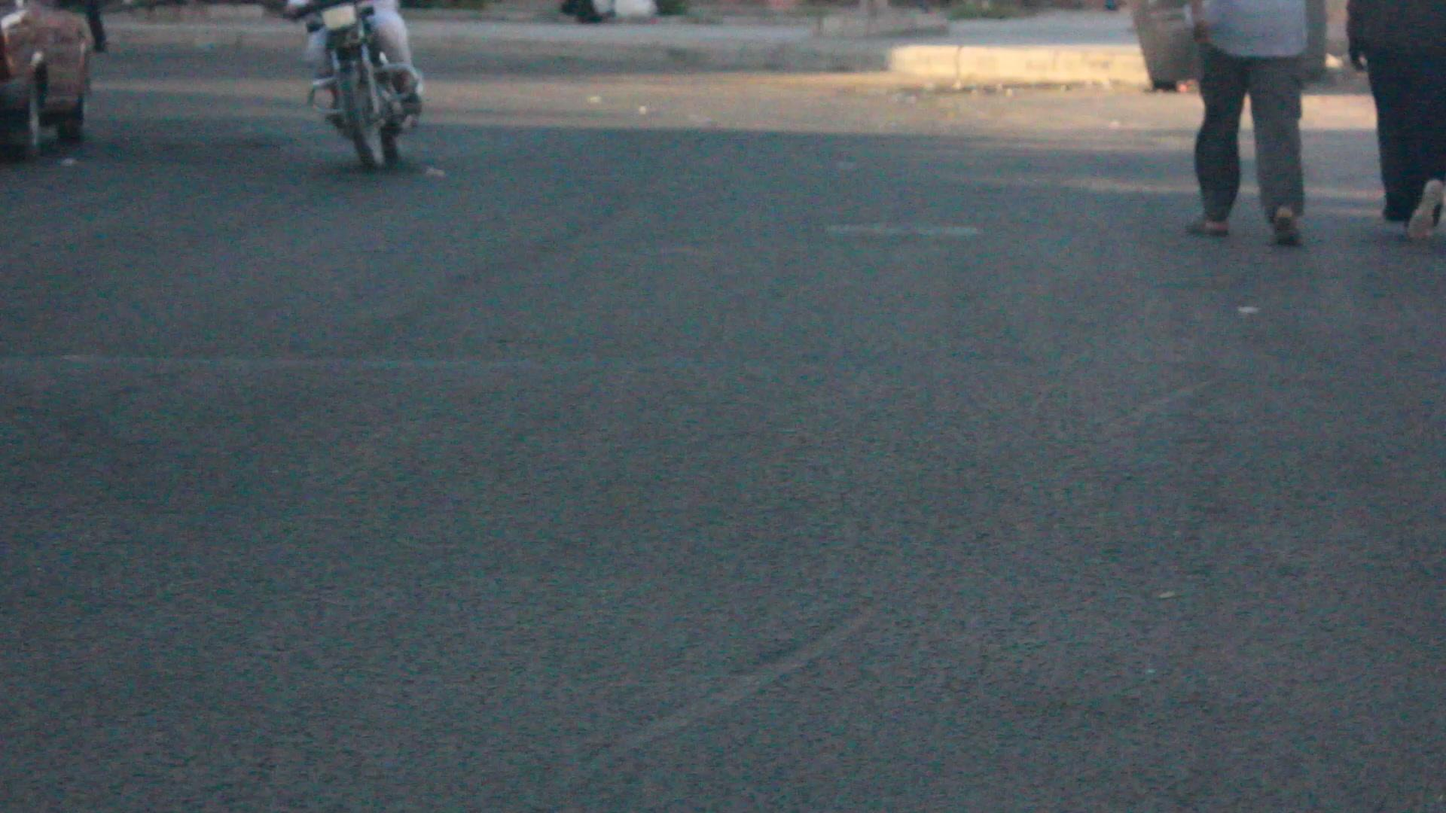Bump: (0, 339, 1446, 499)
